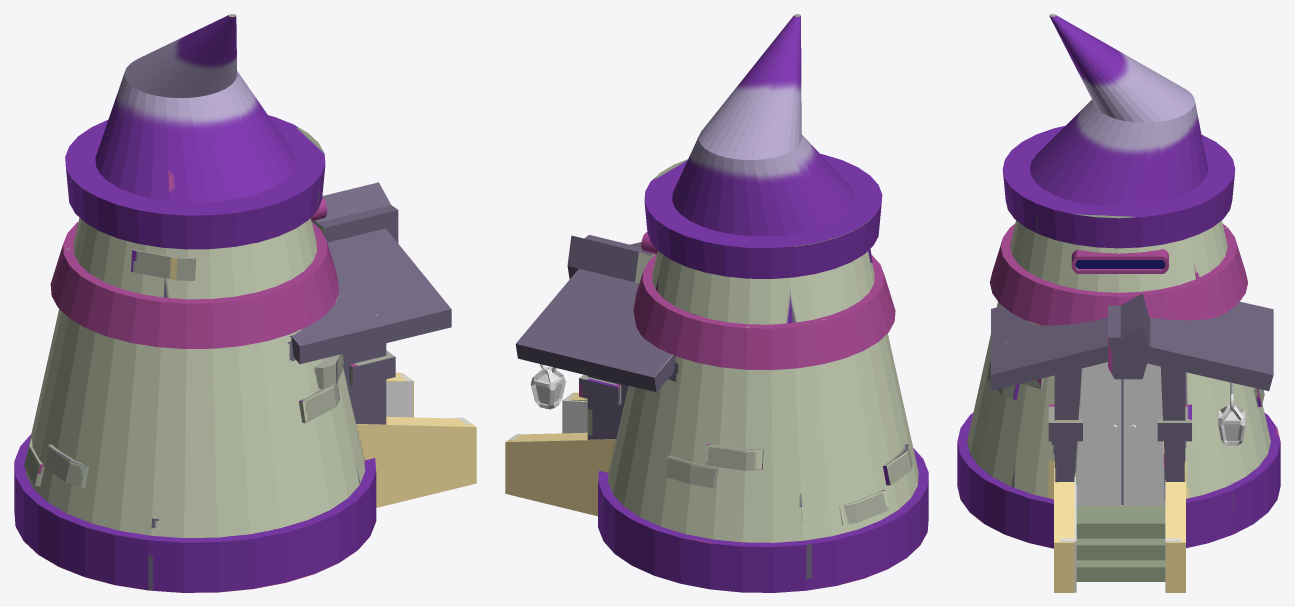
Rendered from ElderHouse_210406.fbx.
The picture shows the model from 3 angles, left to right: view 1: azimuth 30°, elevation 25°; view 2: azimuth 150°, elevation 25°; view 3: azimuth 270°, elevation 25°; orthographic projection. The views are drawn at different scales.
Visible parts, largest first — view 1: Main Body, Cube; view 2: Main Body, Cube.001, Touch1; view 3: Main Body, Door2, Touch1.
Boxes of the visible parts, x1,y1,x2,y2 form: Main Body: [14, 14, 476, 592]; Cube: [386, 374, 412, 417]; Main Body: [505, 14, 928, 592]; Cube.001: [562, 394, 587, 433]; Touch1: [530, 366, 565, 409]; Main Body: [957, 14, 1280, 592]; Door2: [1076, 362, 1164, 506]; Touch1: [1218, 405, 1245, 445].
Bounding box in the file's own units: 1088 × 1368 × 850.
